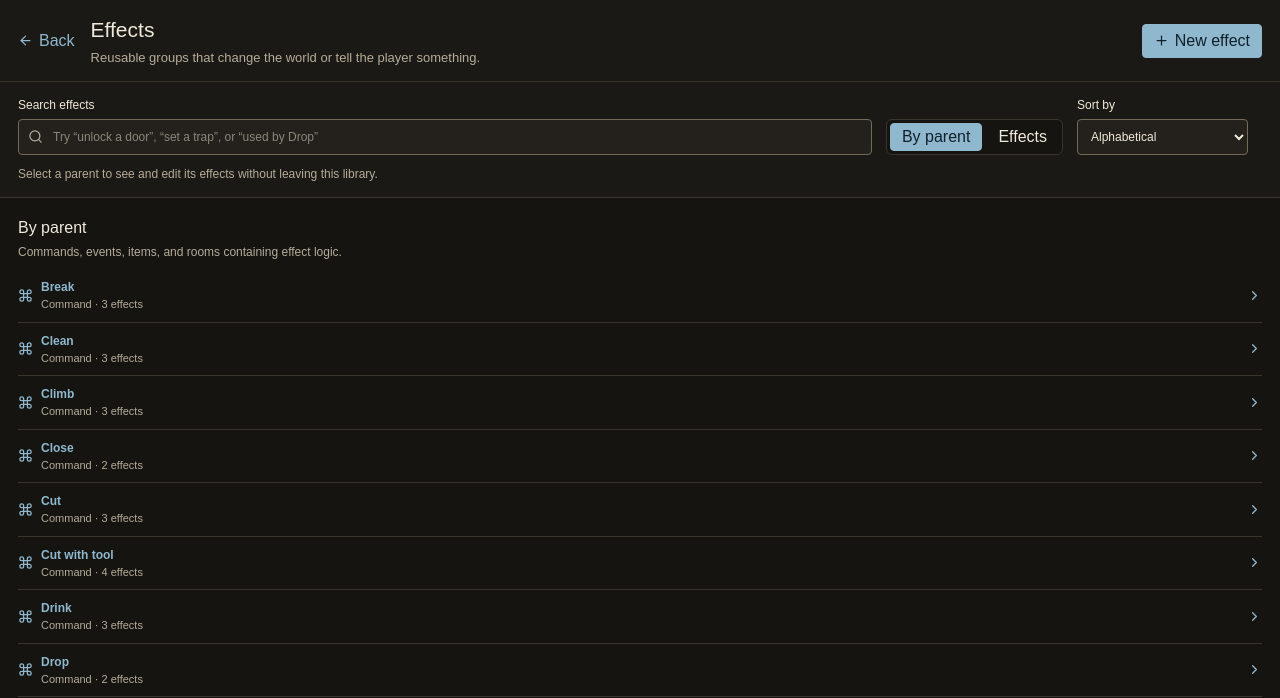
LogicLibraryWorkspace › searches effect metadata such as situations and author notes
Type "pick up a reward" into the search field labelled "Search effects" at (445, 137), box [18,119,872,155]
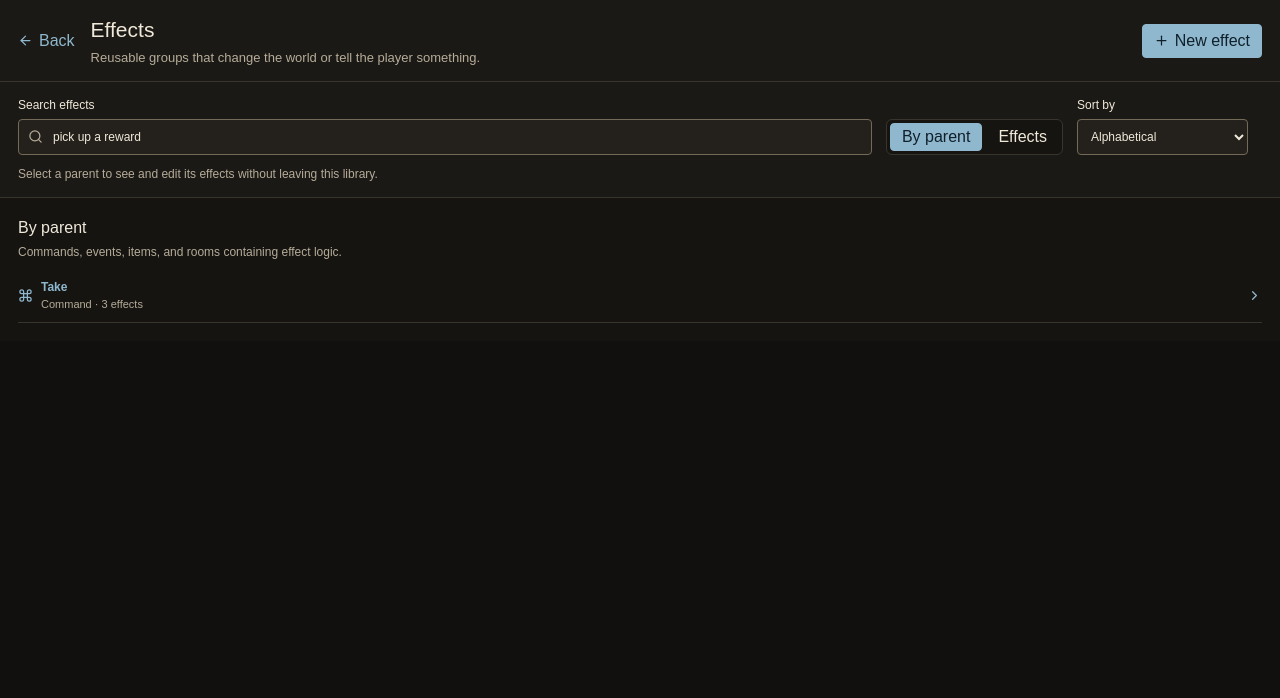
Check: the button "Take Command · 3 effects" is shown, box [18,269,1262,322]
Click the button "Effects" at (1023, 137), box [986,123,1059,151]
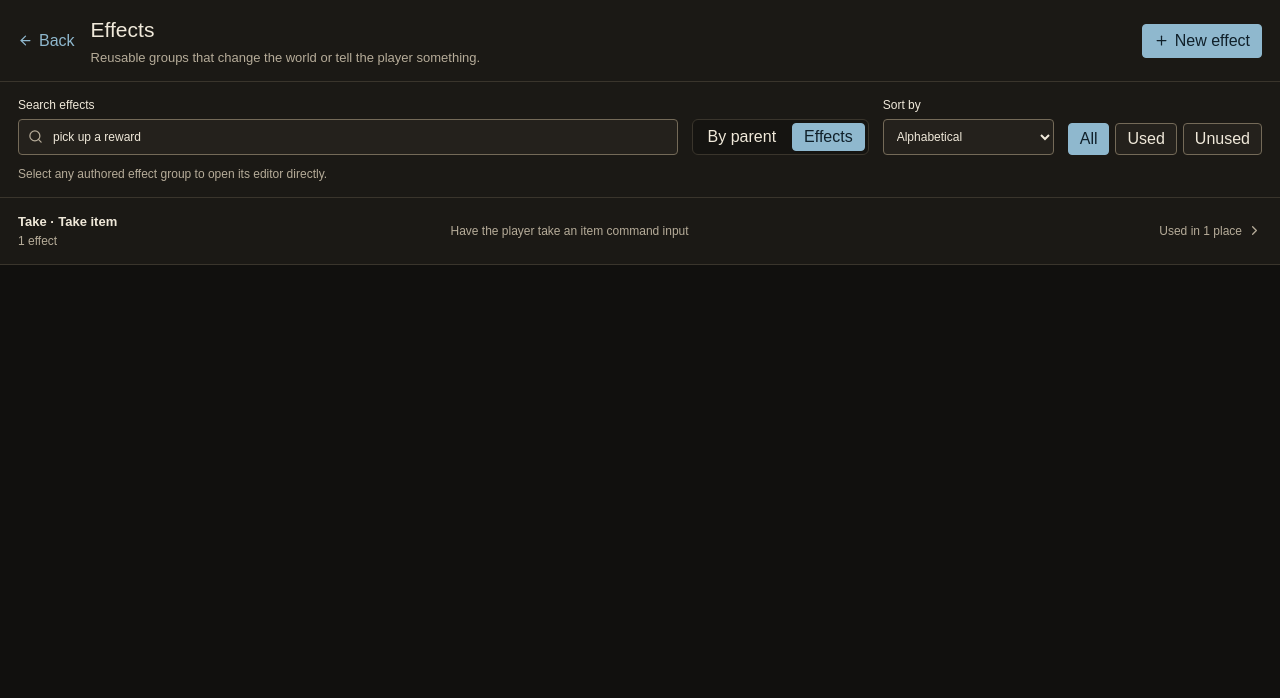
Check: the button "Take · Take item" is shown, box [0,198,1279,264]
